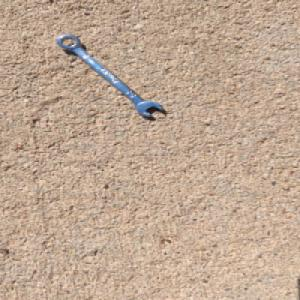Wrench: (53, 33, 164, 118)
